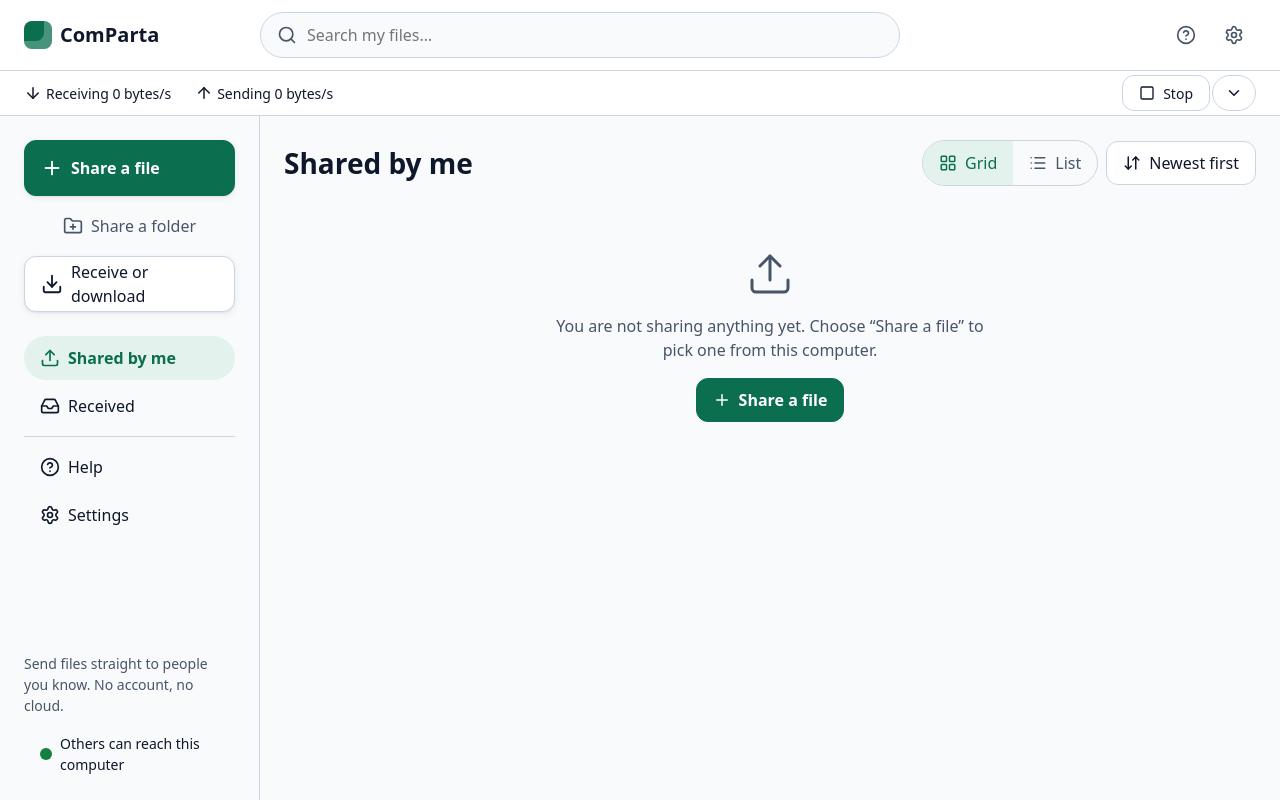
sharing a folder or several files › says which characters a name cannot have, and keeps the dialog open
The width and height of the screenshot is (1280, 800).
Click the 1st button "Share a file".
click(130, 168)  # box [24,140,235,196]
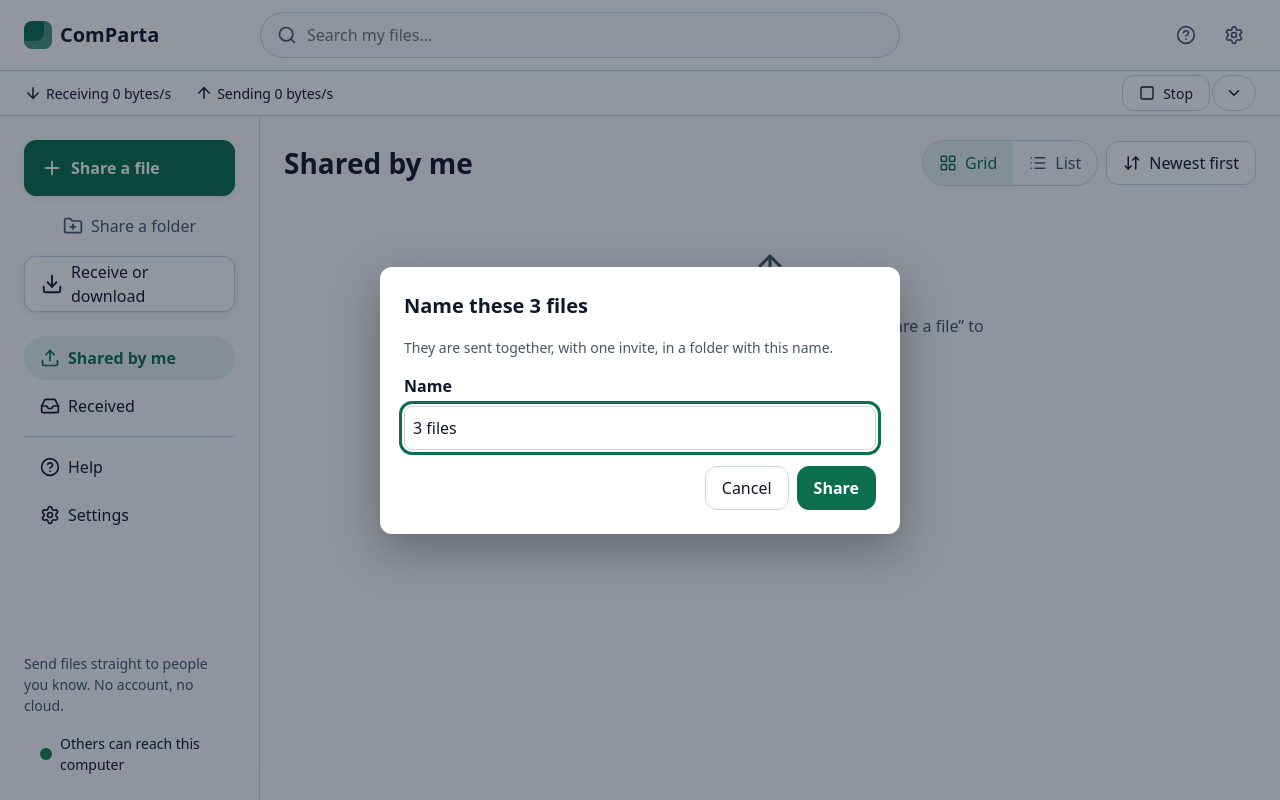
Replace the text in the field labelled "Name" with "Party: 2026" at (640, 428), box [404,406,876,450]
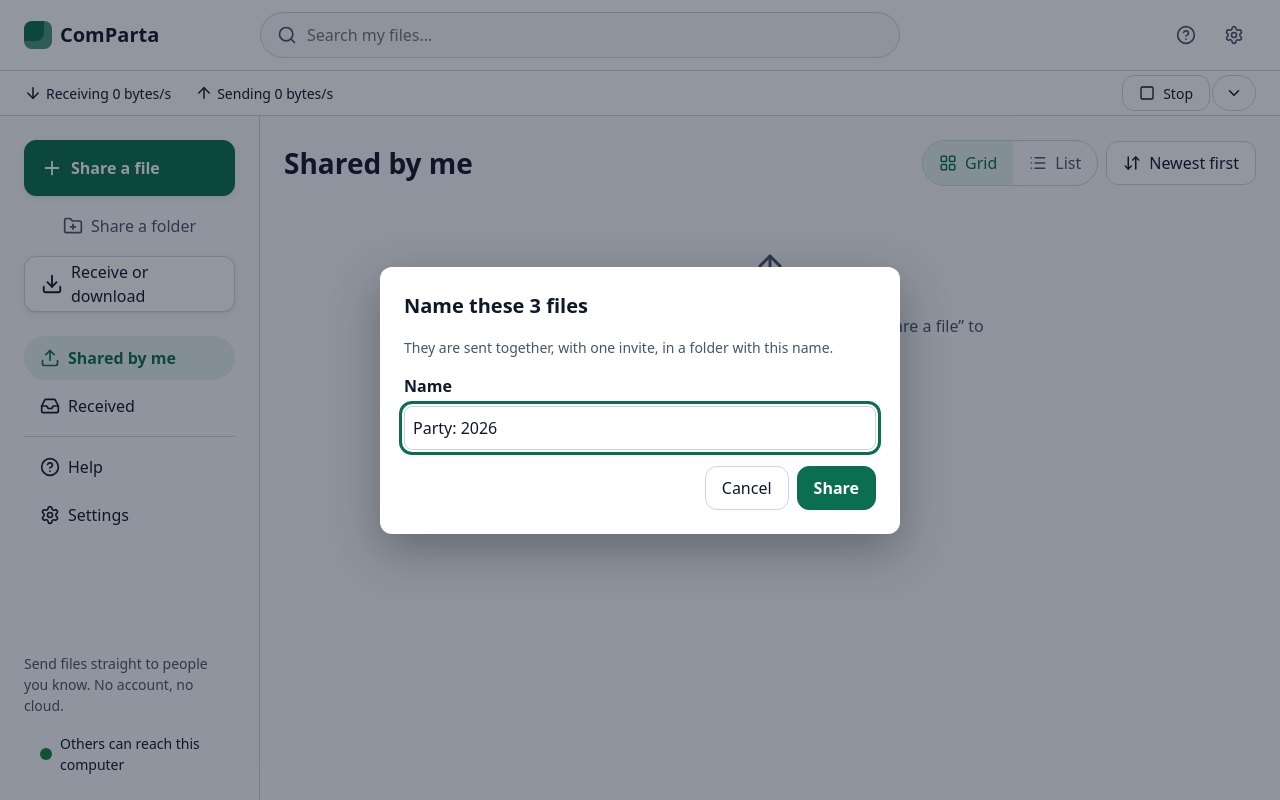
Click the button "Share".
click(836, 488)  # box [797,466,876,510]
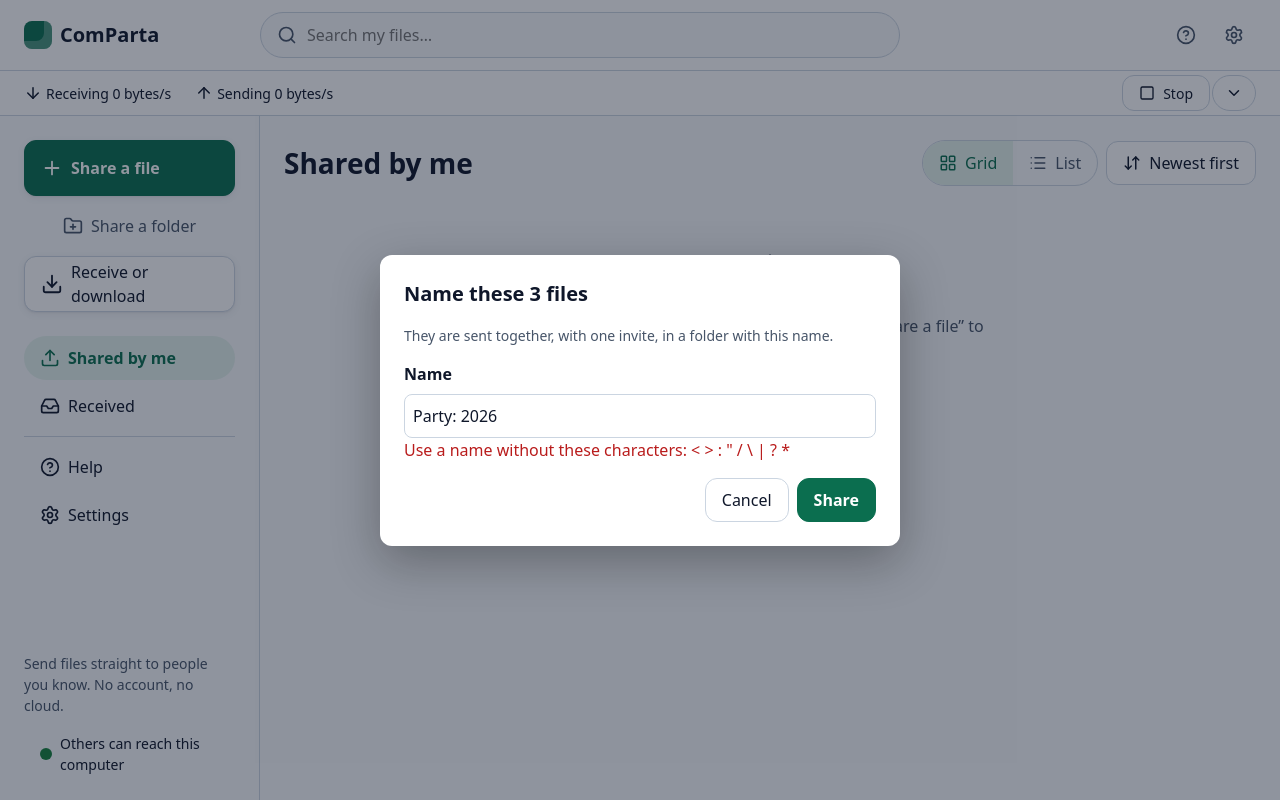
Now the message reads "Use a name without these characters: < > : \" / \\ | ? *", box [404,438,790,460]
